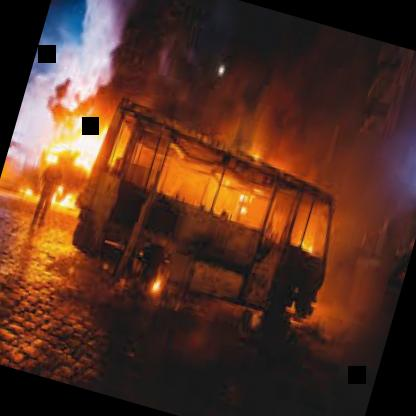fire: (4, 74, 335, 314)
